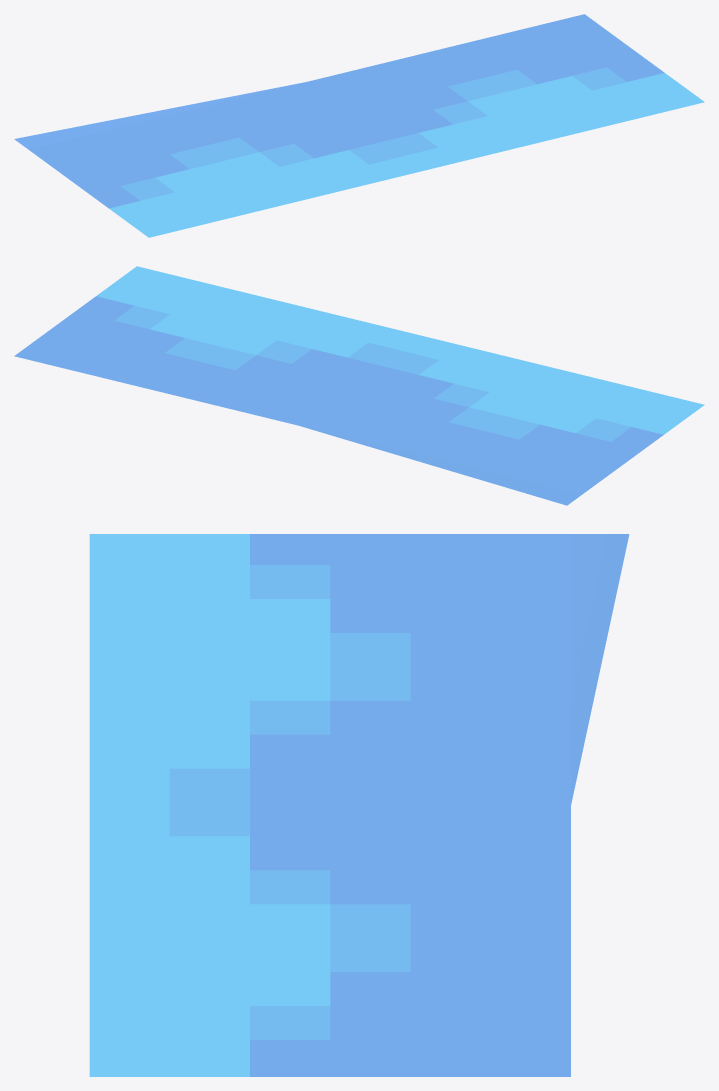
The picture shows the model from 3 angles, top to bottom: view 1: azimuth 30°, elevation 25°; view 2: azimuth 150°, elevation 25°; view 3: azimuth 270°, elevation 25°; orthographic projection. The views are drawn at different scales.
Bounding box in the file's own units: 1 × 0 × 0.4205.
1 material, 1 textured.
